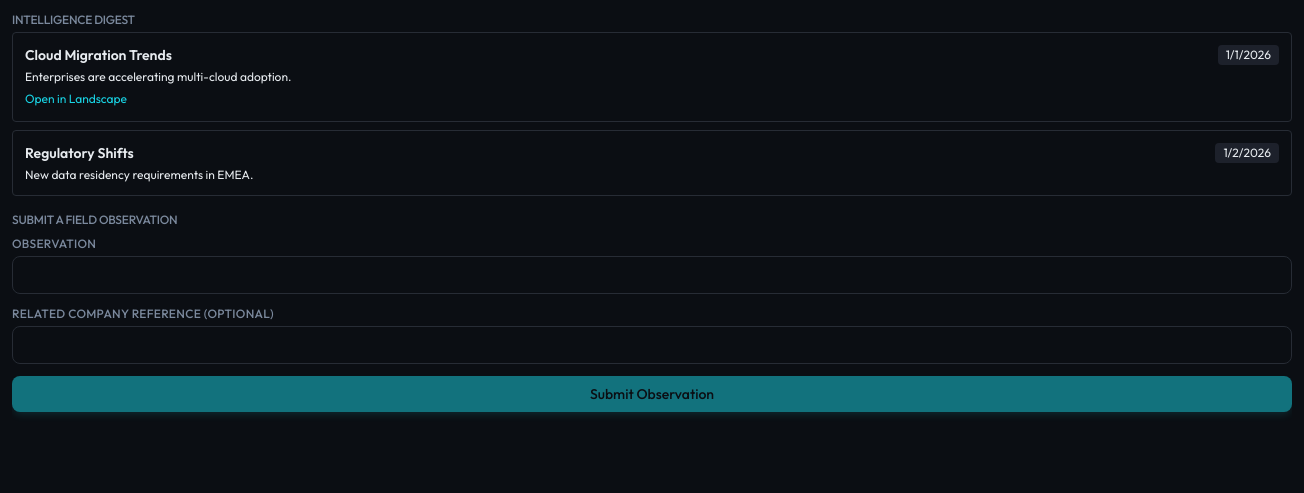
Test: LandscapeWorkspace › shows an error alert and does not clear the form when submission fails
Expected: the text "Cloud Migration Trends" is shown, [25,45,172,65]
Type "Something noteworthy." into the field labelled "Observation" at (652, 275), box [12,256,1292,294]
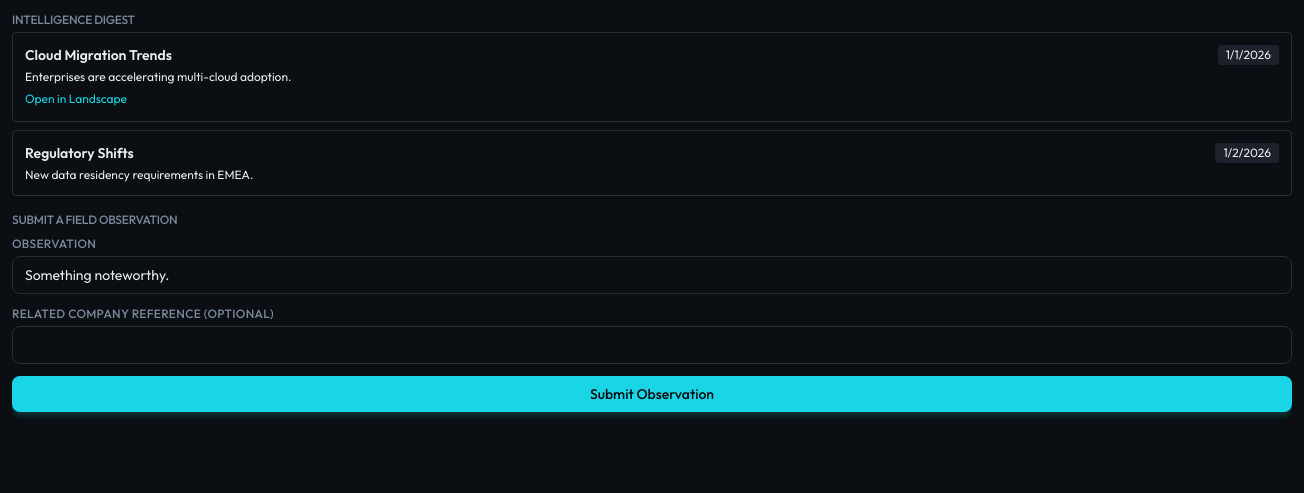
Click the button "Submit Observation" at (652, 394), box [12,376,1292,412]
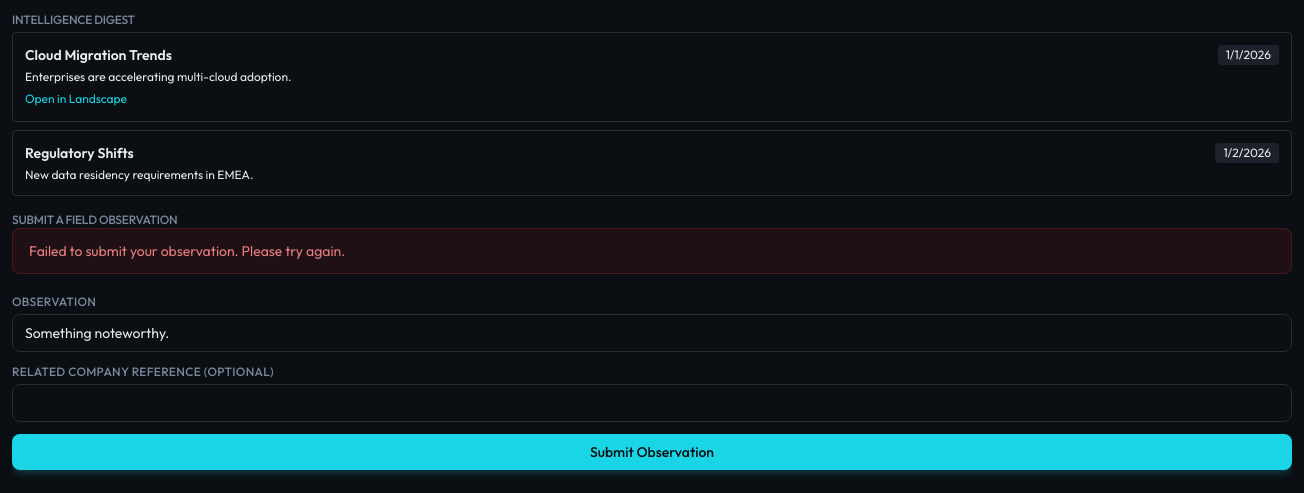
Expected: the text "Failed to submit your observation. Please try again." is shown, [12,228,1292,274]
